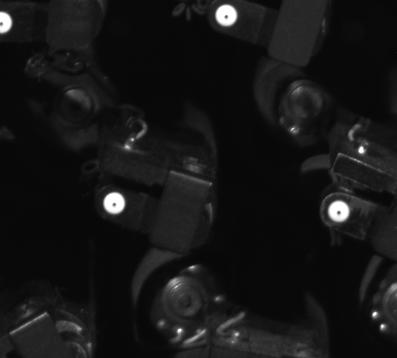fiber: (325, 196, 355, 225), (213, 4, 243, 30), (100, 191, 129, 217), (1, 10, 17, 38)
